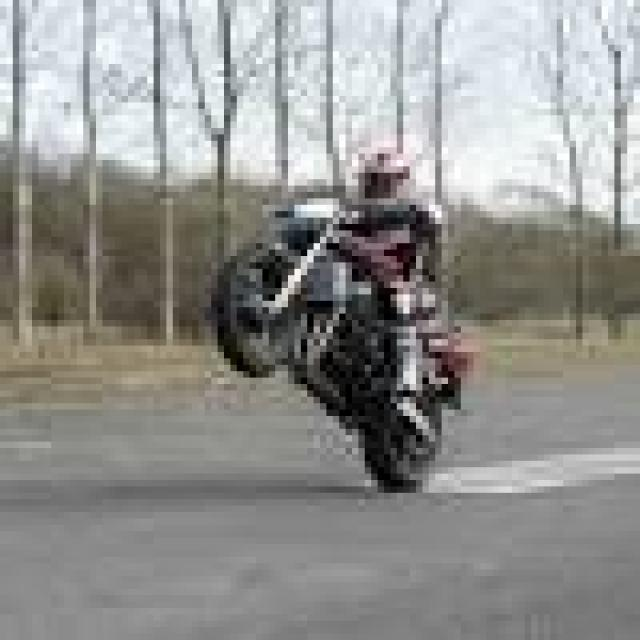Wheeling: (246, 159, 522, 483)
